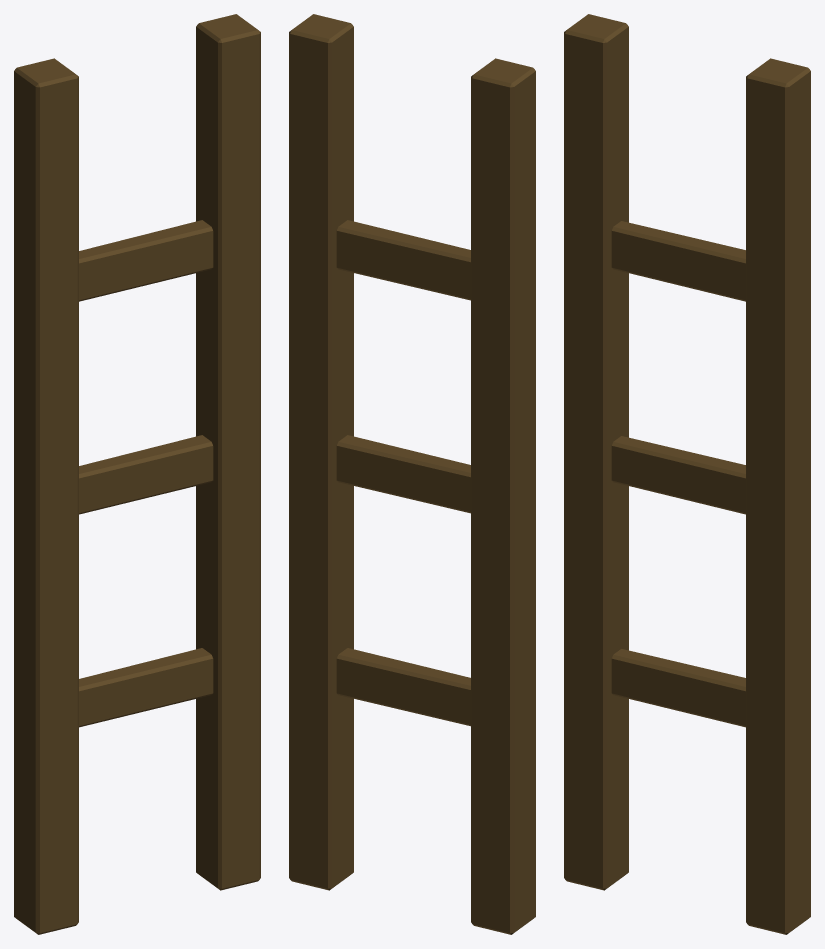
File: Ladder.fbx
3 views of the same model, side by side, from view 1: azimuth 30°, elevation 25°; view 2: azimuth 150°, elevation 25°; view 3: azimuth 330°, elevation 25° (orthographic).
Visible parts, largest first — view 1: pCube5; view 2: pCube5; view 3: pCube5.
Part boxes in pixels (x1,y1,x2,y2): pCube5: (14,14,260,934); pCube5: (289,14,535,934); pCube5: (564,14,810,934).
Bounding box in the file's own units: 139 × 501 × 26.52.
